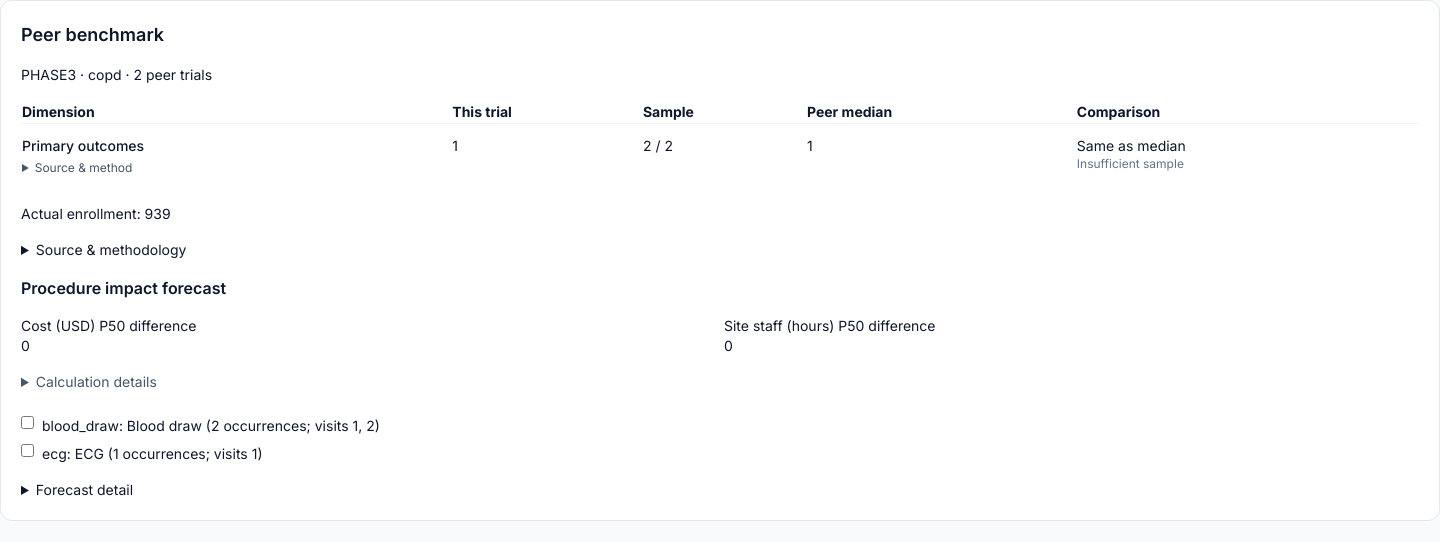
PeerMirror › hides the previous cost result while a new selection is pending
Expected: the element with test id "peer-costs" is shown, [36, 481, 133, 498]
Click the checkbox labelled "ecg: ECG (1 occurrences; visits 1)" at (28, 450), box [21, 444, 34, 457]
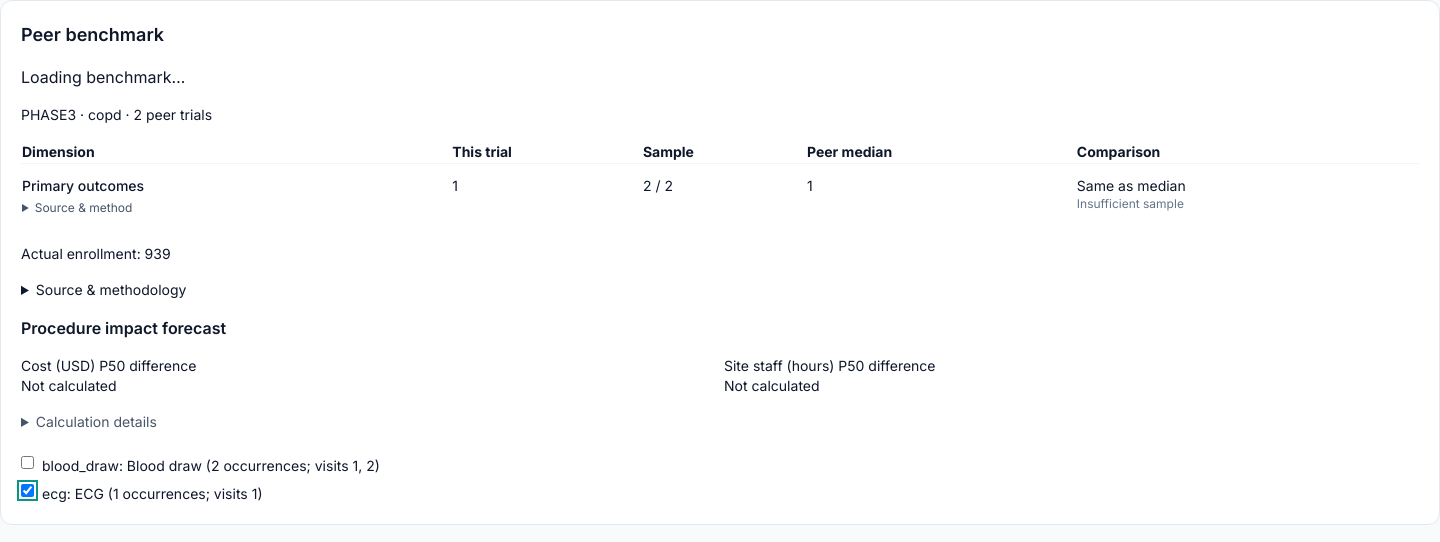
Result: the message shows "Loading" at [21, 67, 185, 87]
Result: the element with test id "peer-costs" is gone
Result: the text with test id "cost_usd-p50-difference" reads "Not calculated" at [21, 377, 117, 394]
